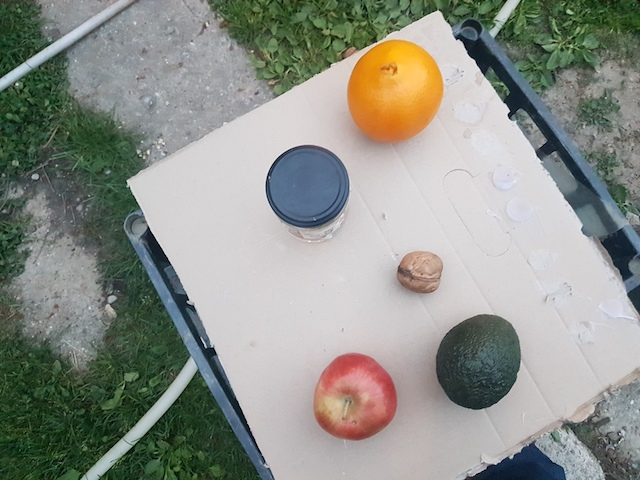apple: (311, 351, 397, 443)
avocado: (436, 314, 524, 413)
nut: (396, 247, 444, 296)
orange: (346, 38, 444, 143)
recipient: (264, 145, 349, 226)
